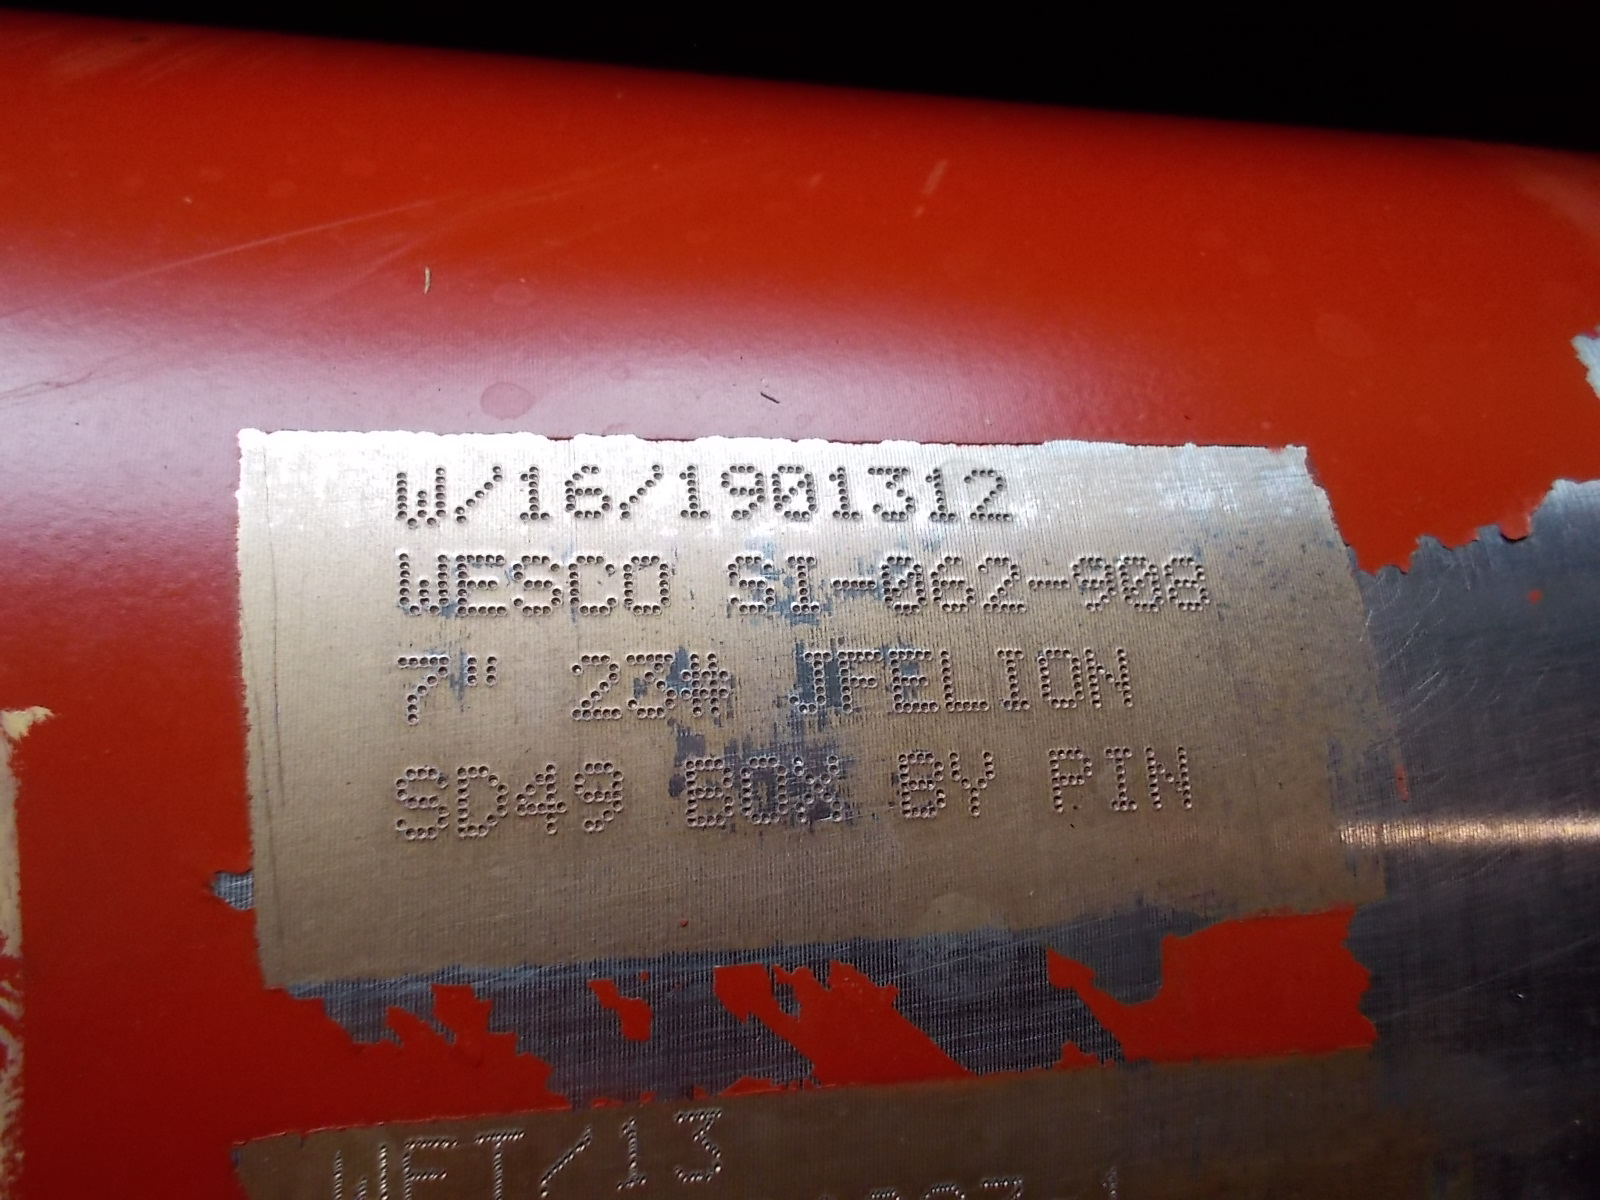character: (571, 753, 643, 847), (380, 649, 457, 734), (383, 756, 450, 847), (383, 545, 455, 626), (450, 759, 514, 847), (677, 745, 736, 839), (563, 645, 624, 736), (946, 735, 1007, 826), (787, 746, 850, 832), (886, 739, 946, 826), (1141, 739, 1204, 821), (379, 459, 450, 532), (535, 1117, 597, 1196), (514, 759, 569, 847), (674, 1104, 729, 1191), (675, 647, 733, 729), (620, 546, 677, 629), (624, 647, 675, 737), (736, 751, 787, 839), (510, 546, 568, 624), (833, 644, 889, 724), (455, 546, 510, 626), (619, 1105, 666, 1197), (959, 463, 1018, 537), (1044, 744, 1100, 823), (711, 459, 769, 534), (937, 642, 991, 720), (722, 550, 784, 618), (975, 547, 1031, 621), (769, 458, 821, 534), (1085, 637, 1138, 713), (568, 546, 620, 624), (874, 553, 932, 623), (450, 461, 506, 532), (889, 642, 937, 724), (556, 463, 611, 532), (1162, 552, 1217, 621), (1033, 639, 1085, 713), (782, 644, 833, 718), (611, 459, 665, 526), (990, 639, 1033, 720), (1099, 741, 1141, 821), (510, 460, 556, 534), (868, 459, 918, 526), (1068, 548, 1117, 616), (821, 456, 869, 526), (932, 547, 975, 623), (918, 459, 959, 537), (665, 459, 711, 526), (1117, 552, 1162, 616), (784, 550, 821, 623), (456, 652, 506, 691), (826, 572, 881, 599), (1023, 571, 1070, 597)
